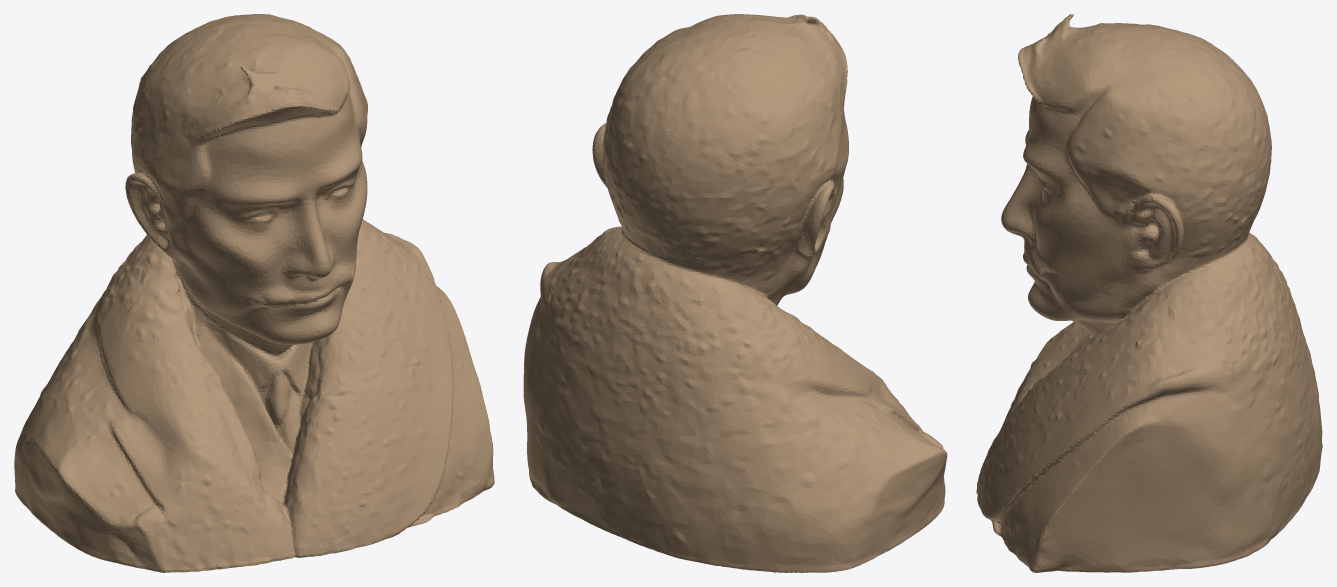
File: sunyatsen_good.glb
3 renders of one model, left to right at view 1: azimuth 30°, elevation 25°; view 2: azimuth 150°, elevation 25°; view 3: azimuth 270°, elevation 25°, orthographic. The views are drawn at different scales.
Visible parts, largest first — view 1: Node1; view 2: Node1; view 3: Node1.
Boxes of the visible parts, bbox=[...] form: Node1: bbox=[14, 14, 494, 572]; Node1: bbox=[523, 14, 947, 572]; Node1: bbox=[976, 14, 1322, 572].
Size of the model in its own units: 1.76 by 1.96 by 1.37.
